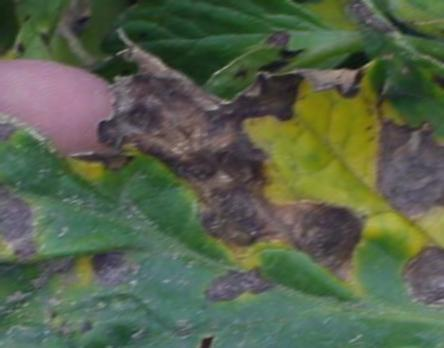Tomato Early blight leaf: (0, 40, 444, 348)
